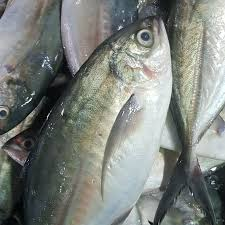Ikan Selar: (27, 13, 177, 224)
